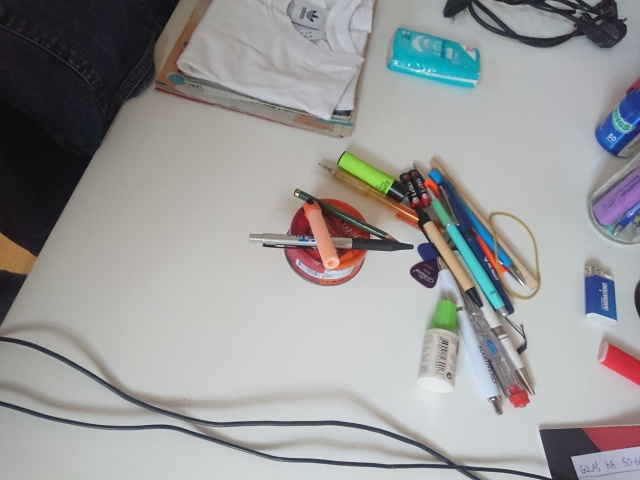Gavrilovic Pork Liver Pate 100g: (281, 195, 371, 287)
